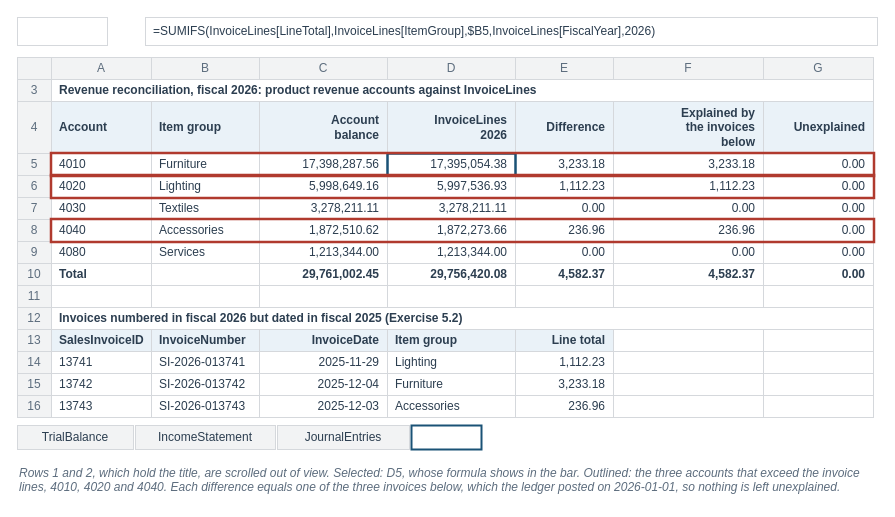
This 895x517 diagram has some shape labels left out. The centre of each missing label's shape, as x and y in pixels:
D5: the point at 62,31
Ex 6.1: the point at 446,437
fx: the point at 126,31
